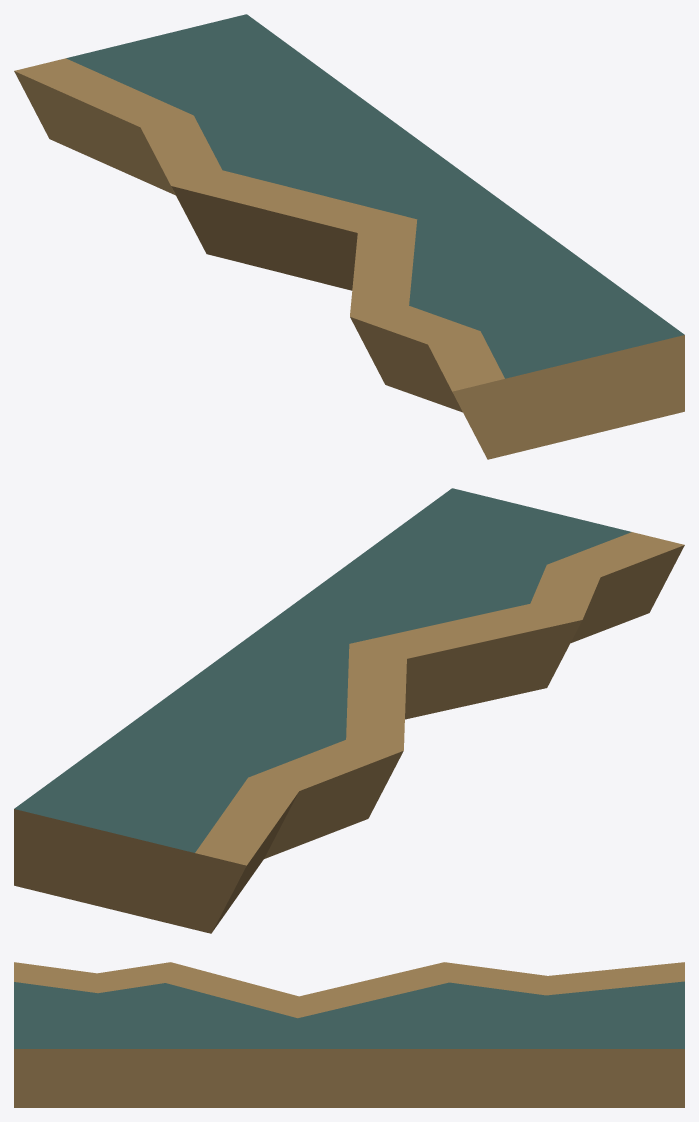
The model's file is Brown_Cliff_Top_01.fbx.
3 renders of one model, top to bottom at view 1: azimuth 30°, elevation 25°; view 2: azimuth 150°, elevation 25°; view 3: azimuth 270°, elevation 25°, orthographic. The views are drawn at different scales.
Parts seen in each view (by area): view 1: Mesh1_Brown_Cliff_Top Model; view 2: Mesh1_Brown_Cliff_Top Model; view 3: Mesh1_Brown_Cliff_Top Model.
Boxes of the visible parts, x1,y1,x2,y2 form: Mesh1_Brown_Cliff_Top Model: (14, 14, 684, 459); Mesh1_Brown_Cliff_Top Model: (14, 488, 684, 933); Mesh1_Brown_Cliff_Top Model: (14, 962, 684, 1107).
Bounding box in the file's own units: 0.92 × 0.29 × 3.
